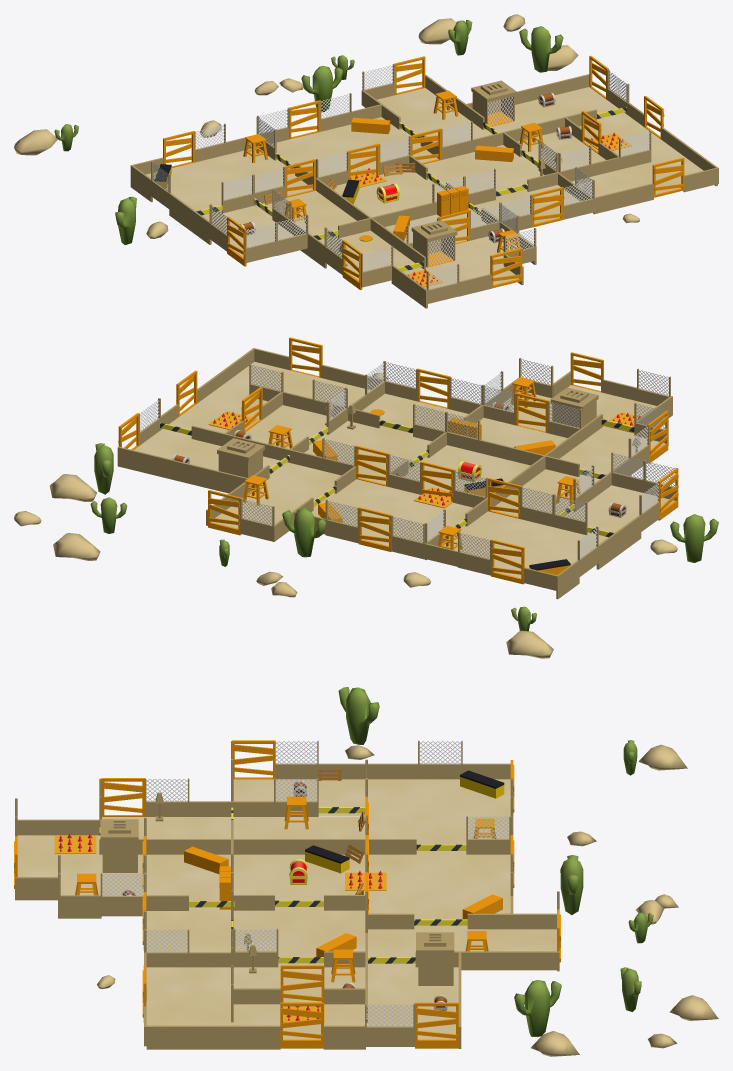
The model's file is Map2.fbx.
3 views of the same model, one above another, from view 1: azimuth 30°, elevation 25°; view 2: azimuth 150°, elevation 25°; view 3: azimuth 270°, elevation 25° (orthographic). The views are drawn at different scales.
Parts seen in each view (by area): view 1: polySurface56, polySurface58, polySurface64, polySurface55, polySurface57, polySurface47, polySurface66, telerport3 (×2), polySurface25, polySurface24, polySurface60, polySurface21 (+31 smaller); view 2: polySurface57, polySurface56, polySurface64, polySurface58, polySurface21, polySurface55, polySurface63, polySurface47, polySurface25, polySurface60, polySurface24, polySurface66 (+30 smaller); view 3: polySurface58, polySurface56, polySurface64, polySurface57, polySurface47, polySurface24, polySurface66, polySurface20, polySurface62, polySurface45, telerport3 (×2), polySurface60 (+34 smaller).
Boxes of the visible parts, x1,y1,x2,y2 form: polySurface56: [146, 148, 312, 217]; polySurface58: [272, 117, 438, 176]; polySurface64: [571, 114, 703, 197]; polySurface55: [189, 174, 308, 263]; polySurface57: [130, 116, 312, 229]; polySurface47: [391, 202, 536, 308]; polySurface66: [593, 102, 718, 214]; telerport3 (×2): [411, 80, 516, 267]; polySurface25: [441, 121, 559, 205]; polySurface24: [424, 145, 544, 199]; polySurface60: [377, 88, 491, 146]; polySurface21: [316, 136, 464, 227]; polySurface57: [424, 498, 620, 599]; polySurface56: [443, 511, 605, 578]; polySurface64: [161, 361, 370, 437]; polySurface58: [311, 479, 472, 545]; polySurface21: [388, 412, 545, 507]; polySurface55: [553, 452, 675, 553]; polySurface63: [117, 398, 247, 493]; polySurface47: [482, 358, 672, 426]; polySurface25: [289, 388, 446, 475]; polySurface60: [211, 463, 341, 528]; polySurface24: [304, 421, 431, 484]; polySurface66: [160, 348, 383, 430]; polySurface58: [369, 854, 510, 928]; polySurface56: [368, 779, 510, 853]; polySurface64: [146, 967, 364, 1039]; polySurface57: [368, 740, 513, 854]; polySurface47: [15, 798, 145, 918]; polySurface24: [233, 910, 365, 966]; polySurface66: [144, 952, 365, 1049]; polySurface20: [233, 854, 365, 910]; polySurface62: [367, 966, 458, 1039]; polySurface45: [17, 835, 143, 895]; telerport3 (×2): [100, 819, 454, 985]; polySurface60: [368, 929, 556, 966].
Size of what is drawn, in the model's own units: 56.74 by 5.26 by 51.69.
Materials: 3 (3 with a texture image).
